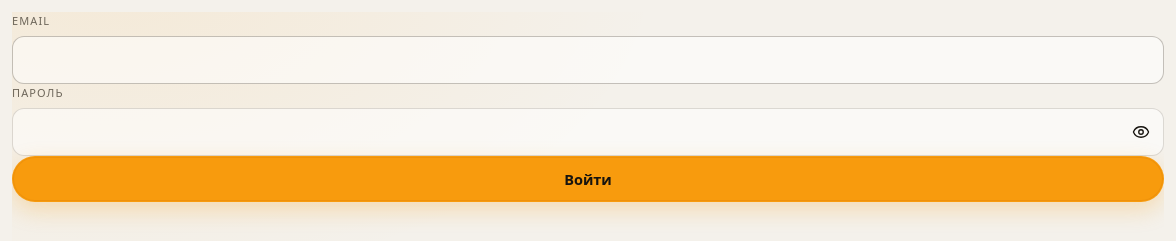
Test: форма входа › пока идёт вход — «Входим…», кнопка недоступна
The width and height of the screenshot is (1176, 241).
In the field labelled "Email": point(588, 60) [12,36,1164,84], type "dilnoza@vodiyhouse.uz"
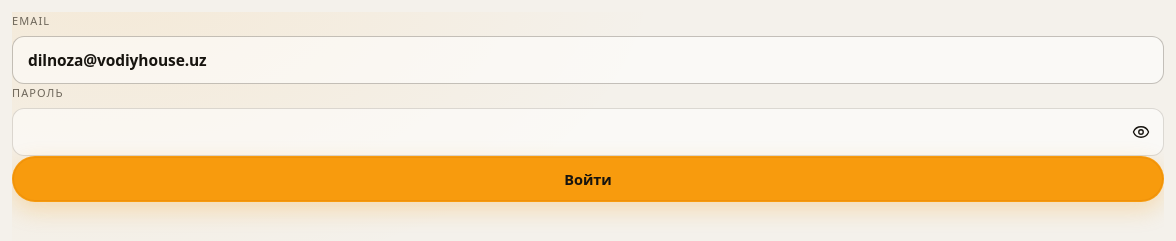
In the password field labelled "Пароль": point(588, 132) [12,108,1164,156], type "пароль-123"
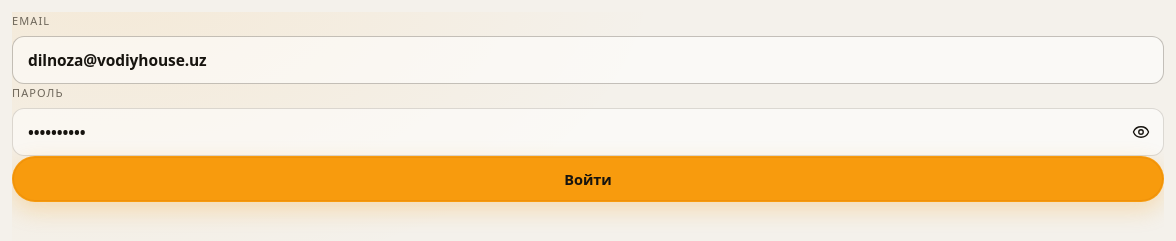
Submit the form "Войти"
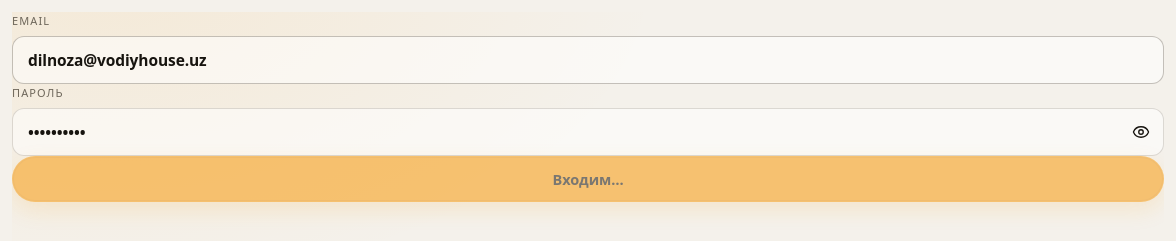
Now the button "Входим…" is disabled, box [12,156,1164,202]
